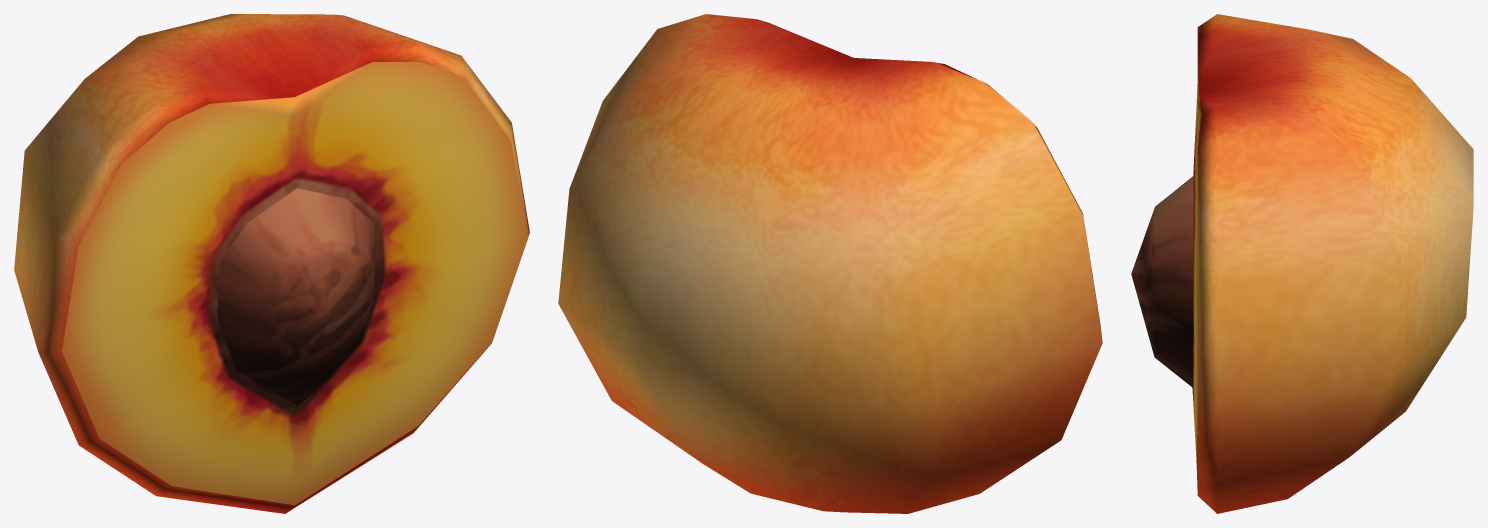
The model's file is Peach_Half.fbx.
The picture shows the model from 3 angles, left to right: view 1: azimuth 30°, elevation 25°; view 2: azimuth 150°, elevation 25°; view 3: azimuth 270°, elevation 25°; orthographic projection. The views are drawn at different scales.
Parts seen in each view (by area): view 1: Peach_Half; view 2: Peach_Half; view 3: Peach_Half.
Boxes of the visible parts, bbox=[...] form: Peach_Half: bbox=[14, 14, 529, 513]; Peach_Half: bbox=[558, 14, 1102, 513]; Peach_Half: bbox=[1131, 14, 1473, 513].
Size of the model in its own units: 31 by 26.91 by 19.38.
